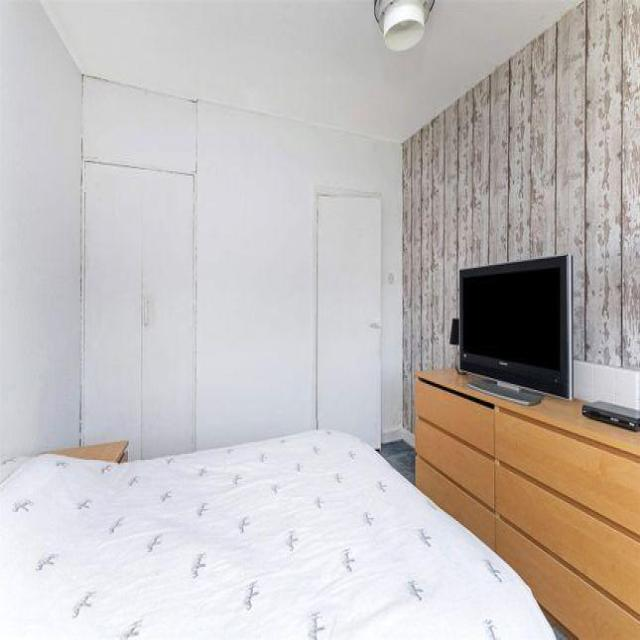Wall: (404, 0, 640, 427), (41, 0, 579, 142), (196, 101, 401, 447), (0, 0, 81, 455), (84, 78, 196, 172), (379, 441, 415, 483), (381, 428, 415, 447)
